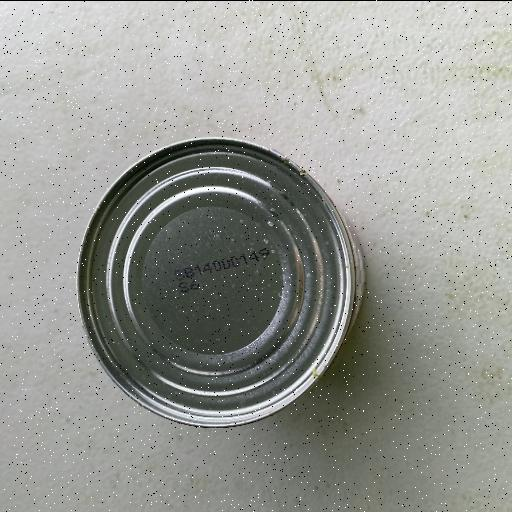Metal: (74, 135, 366, 430)
